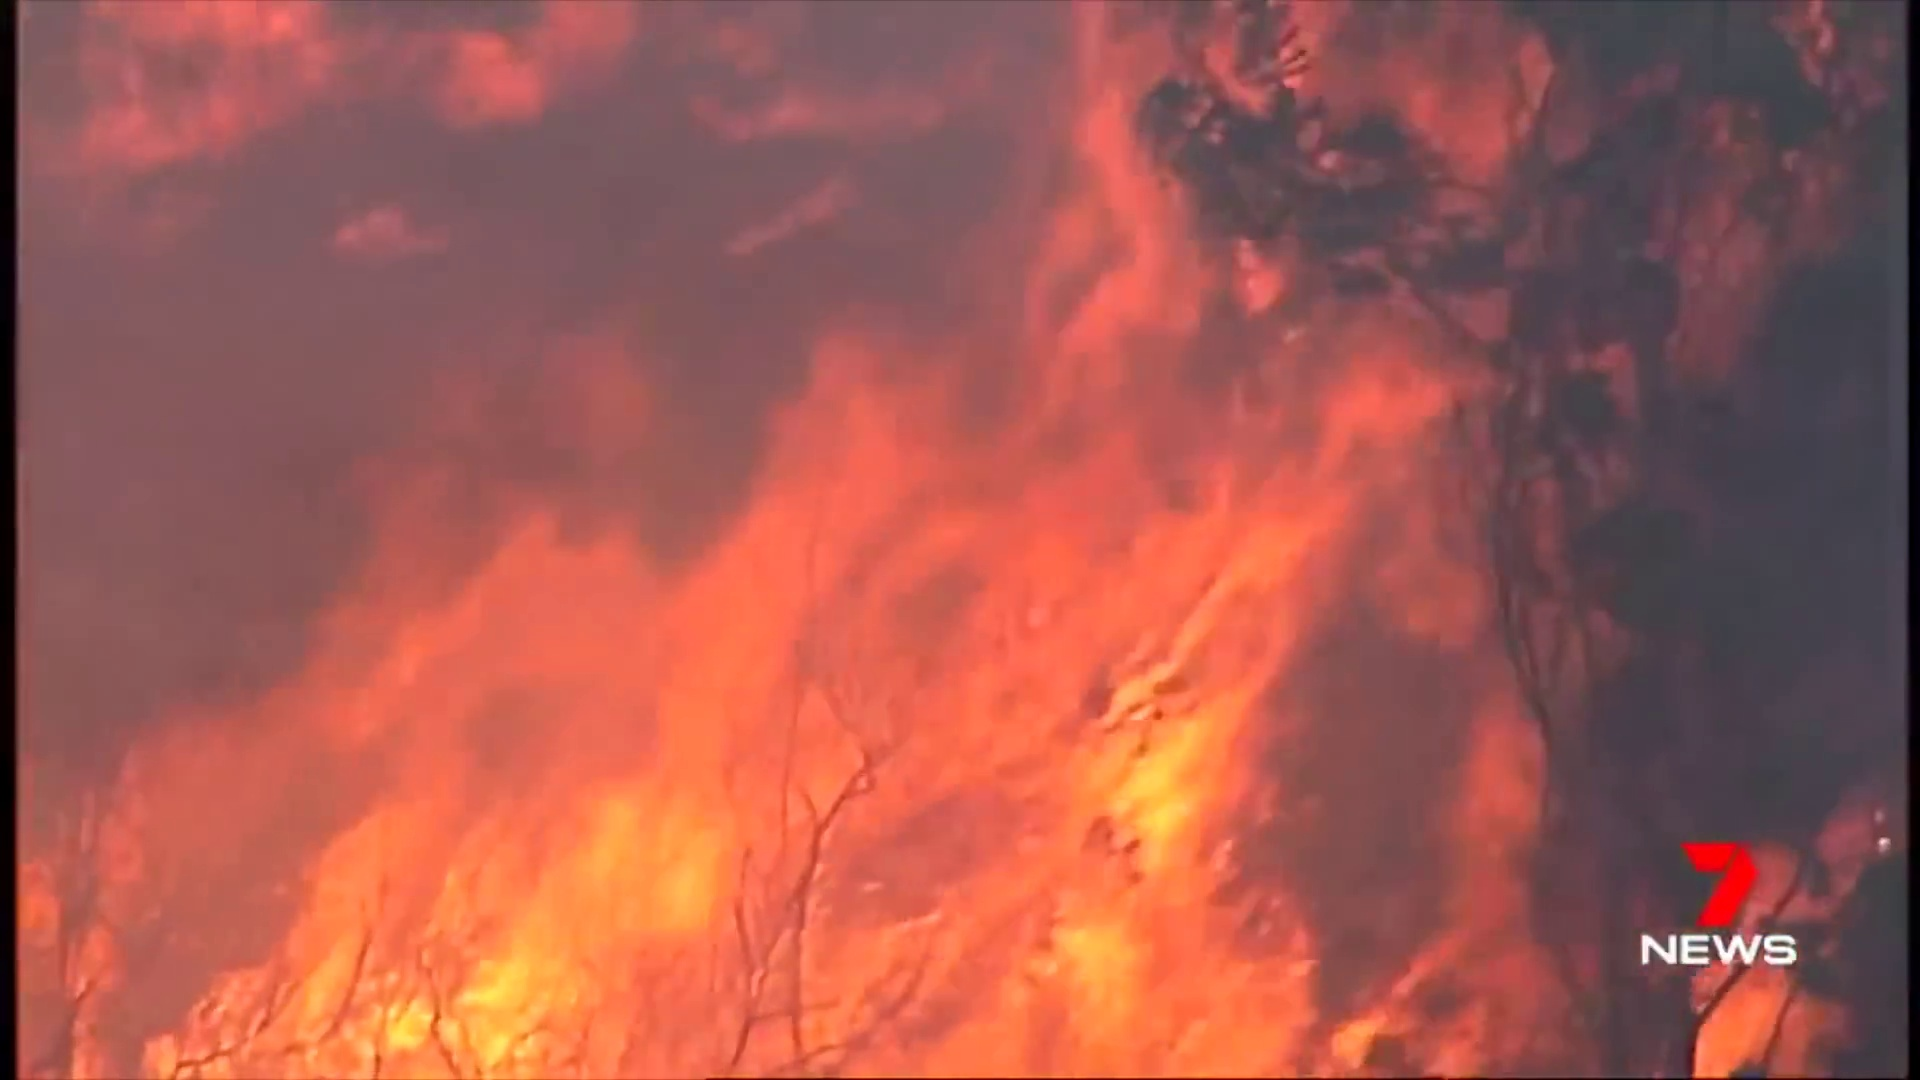fire: (171, 429, 1321, 1080)
